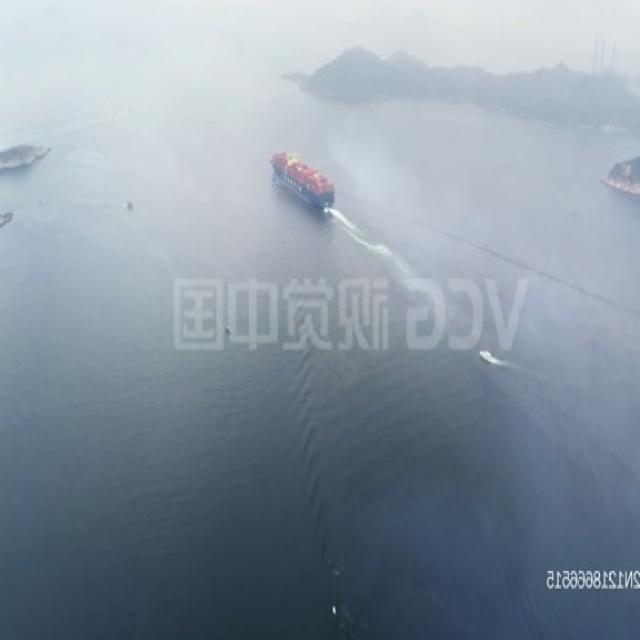cargoship: (270, 145, 336, 211)
houseboat: (480, 346, 500, 366), (223, 321, 231, 337), (126, 200, 136, 209)
